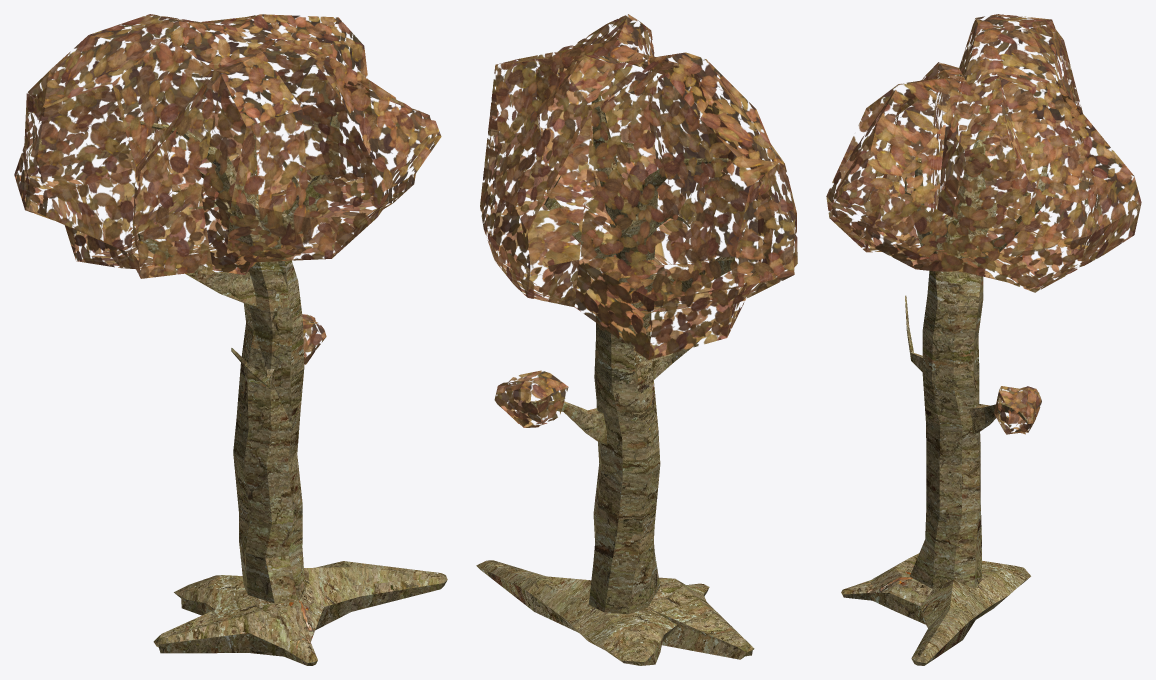
The model's file is AutumnTree.glb.
3 renders of one model, left to right at view 1: azimuth 30°, elevation 25°; view 2: azimuth 150°, elevation 25°; view 3: azimuth 270°, elevation 25°, orthographic. The views are drawn at different scales.
Parts seen in each view (by area): view 1: Cube, Plane, Cube.001; view 2: Cube, Plane, Cube.001; view 3: Cube, Plane, Cube.001.
Boxes of the visible parts, x1,y1,x2,y2 form: Cube: (14,14,441,278); Plane: (119,95,447,665); Cube.001: (302,314,326,365); Cube: (480,14,797,360); Plane: (476,88,754,665); Cube.001: (494,370,568,427); Cube: (826,14,1141,292); Plane: (841,78,1047,665); Cube.001: (994,386,1041,434).
Bounding box in the file's own units: 12.54 × 19.97 × 10.16.
Materials: 3 (3 with a texture image).
